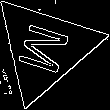M_E: (13, 18, 77, 78)
